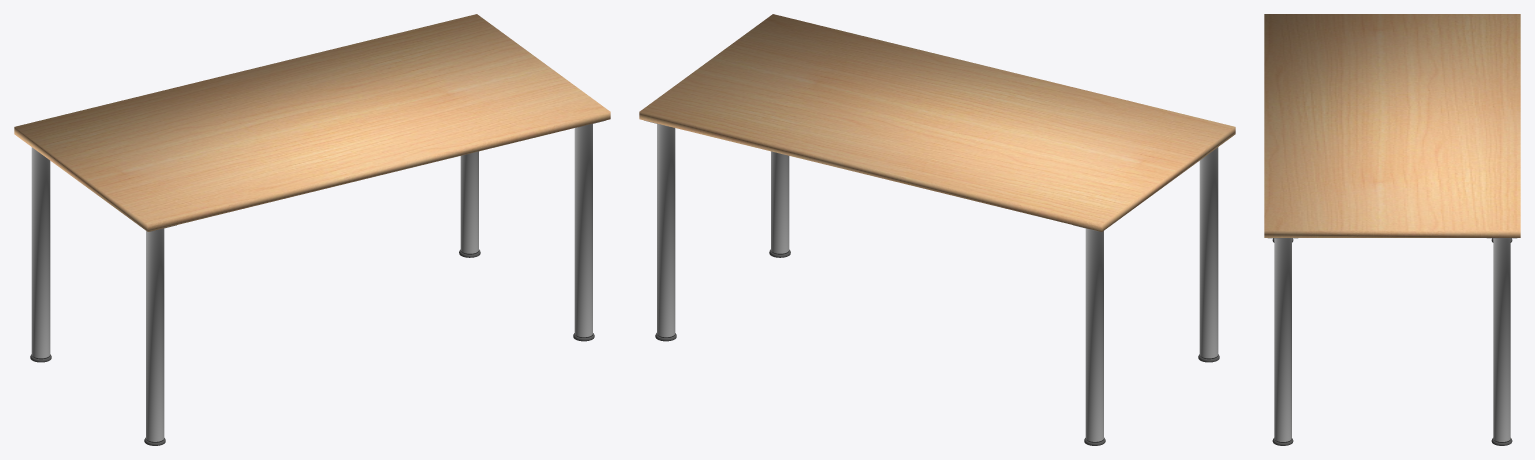
File: sh_scopia_wooden_office_pear_table_rect.glb
3 views of the same model, side by side, from view 1: azimuth 30°, elevation 25°; view 2: azimuth 150°, elevation 25°; view 3: azimuth 270°, elevation 25° (orthographic). The views are drawn at different scales.
Bounding box in the file's own units: 1.6 × 0.754 × 0.8.
Materials: 3 (1 with a texture image).
